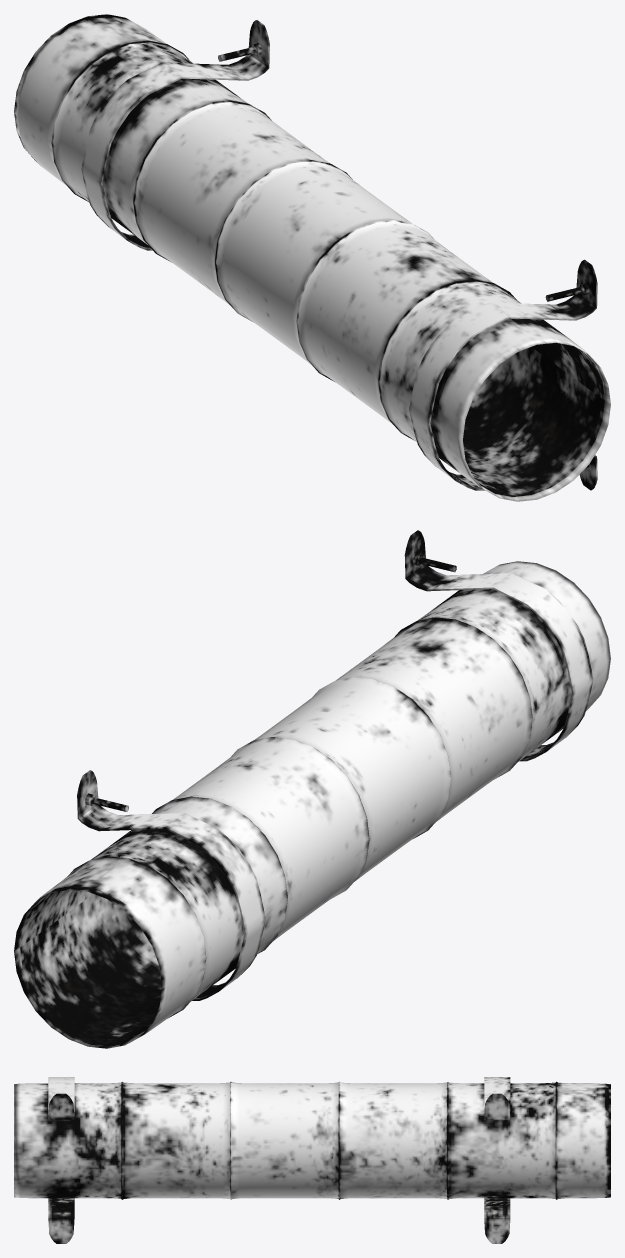
The model's file is SM_Pipe_Riplle_2.fbx.
The picture shows the model from 3 angles, top to bottom: view 1: azimuth 30°, elevation 25°; view 2: azimuth 150°, elevation 25°; view 3: azimuth 270°, elevation 25°; orthographic projection. The views are drawn at different scales.
Parts seen in each view (by area): view 1: SM_Pipe_Riplle_2; view 2: SM_Pipe_Riplle_2; view 3: SM_Pipe_Riplle_2.
Part boxes in pixels (<box>): SM_Pipe_Riplle_2: <box>14,14,610,501</box>; SM_Pipe_Riplle_2: <box>14,530,610,1048</box>; SM_Pipe_Riplle_2: <box>14,1077,610,1243</box>.
Bounding box in the file's own units: 21.81 × 100 × 27.66.
1 material, 1 textured.
